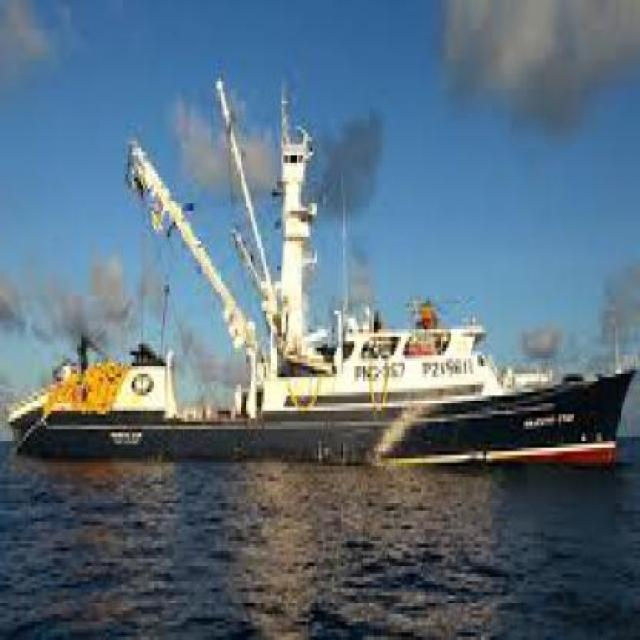fish-b: (1, 63, 639, 489)
